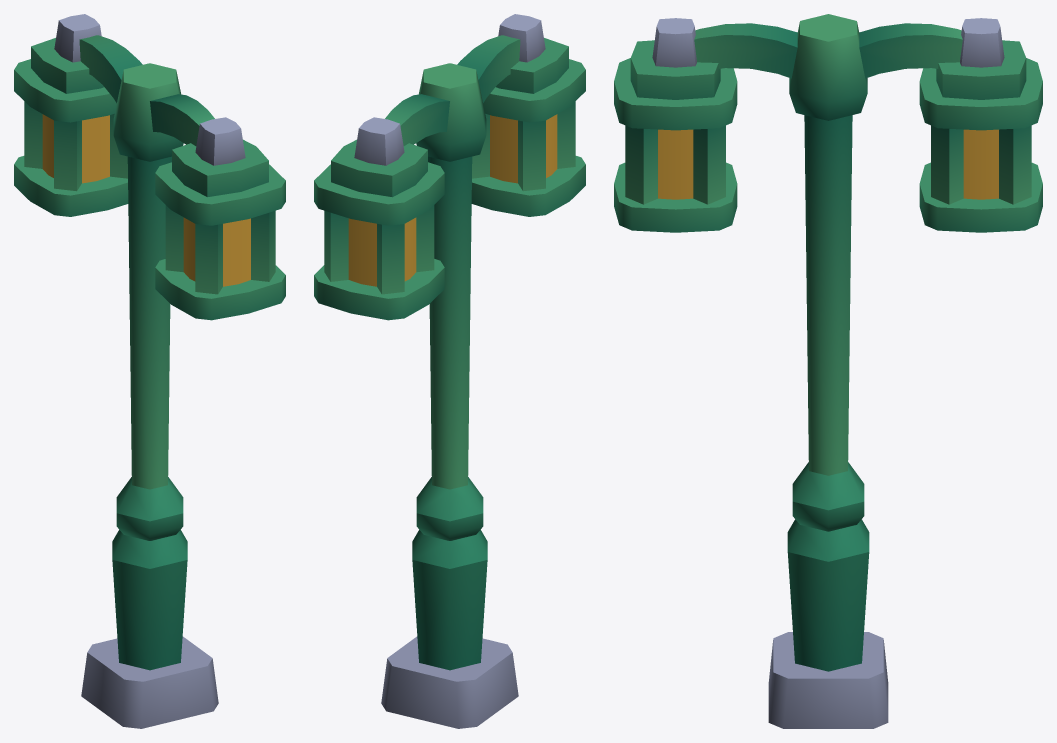
The model's file is lightpost-double.glb.
3 views of the same model, side by side, from view 1: azimuth 30°, elevation 25°; view 2: azimuth 150°, elevation 25°; view 3: azimuth 270°, elevation 25° (orthographic). The views are drawn at different scales.
Parts seen in each view (by area): view 1: lightpost-double; view 2: lightpost-double; view 3: lightpost-double.
Part boxes in pixels (x1,y1,x2,y2): lightpost-double: [14, 14, 285, 728]; lightpost-double: [314, 14, 585, 728]; lightpost-double: [614, 14, 1042, 728].
Bounding box in the file's own units: 0.2088 × 1.27 × 0.7266.
